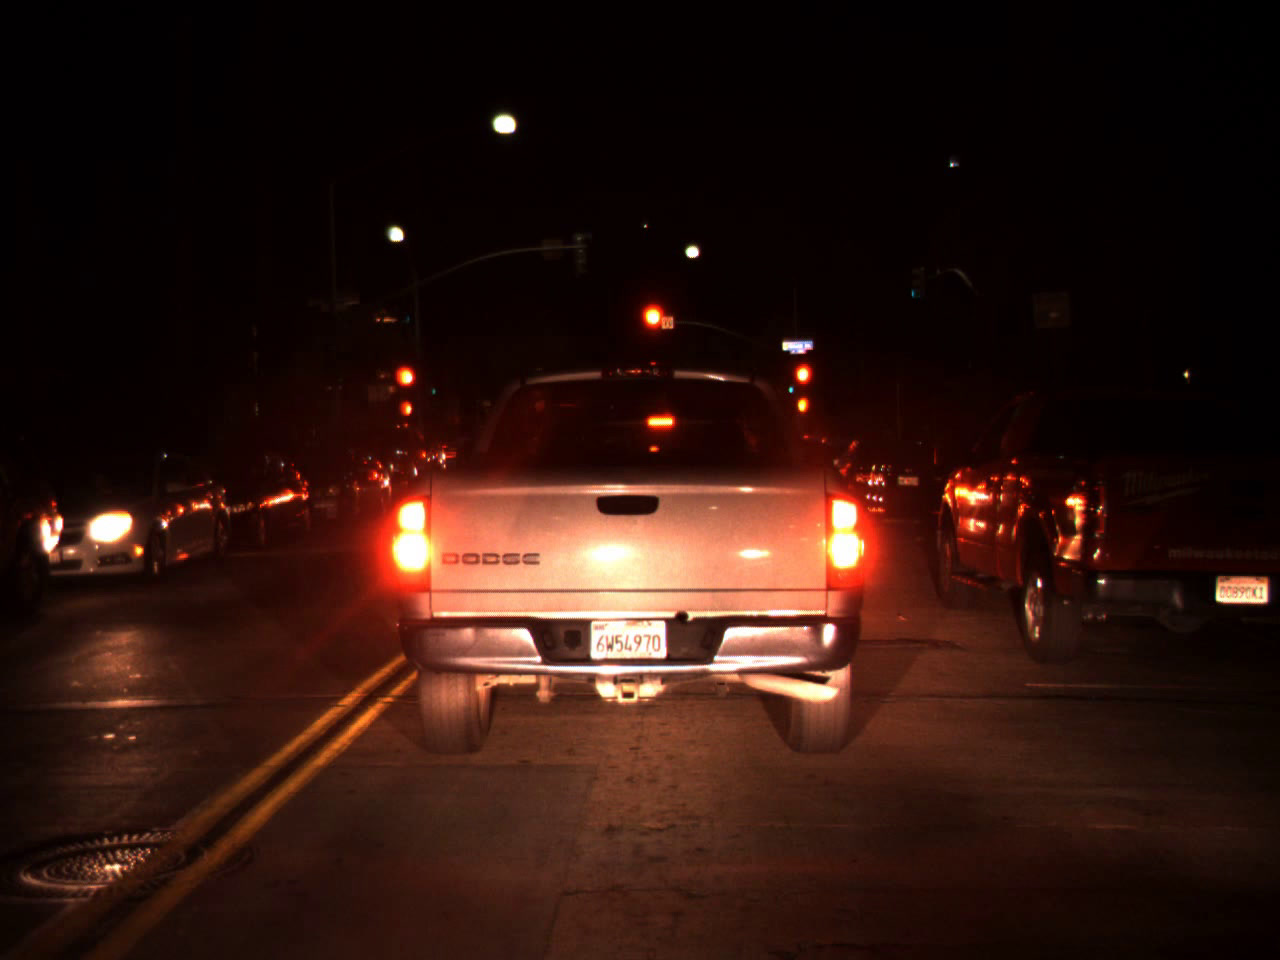stop: (642, 304, 663, 347), (396, 366, 415, 403), (794, 363, 810, 400)
